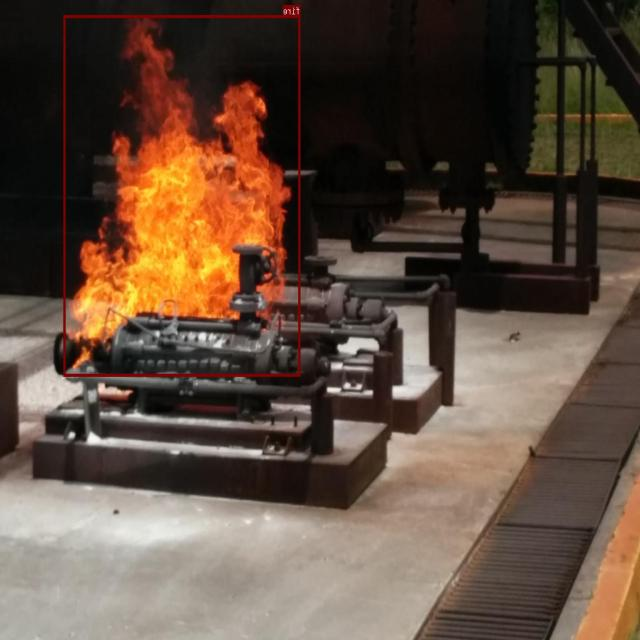fire: (64, 15, 301, 376)
